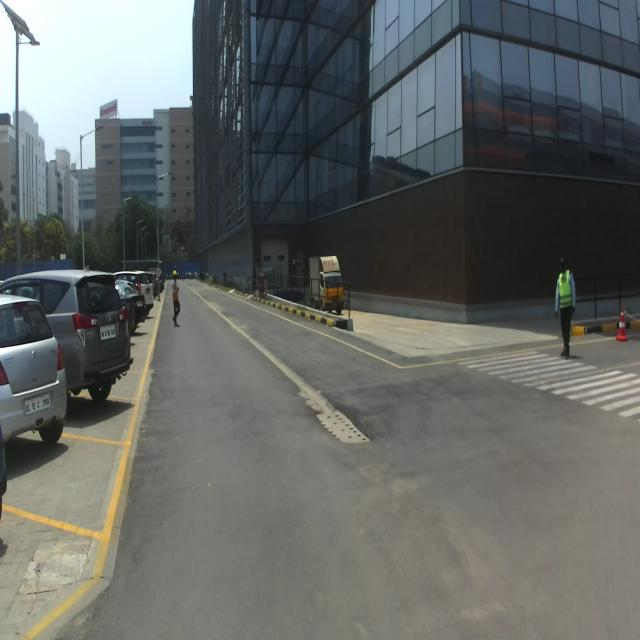car ahead at: (0, 289, 68, 454), (60, 265, 132, 393)
person ahead at: (552, 256, 578, 357)
zebra crossing ahead at: (467, 341, 639, 419)
